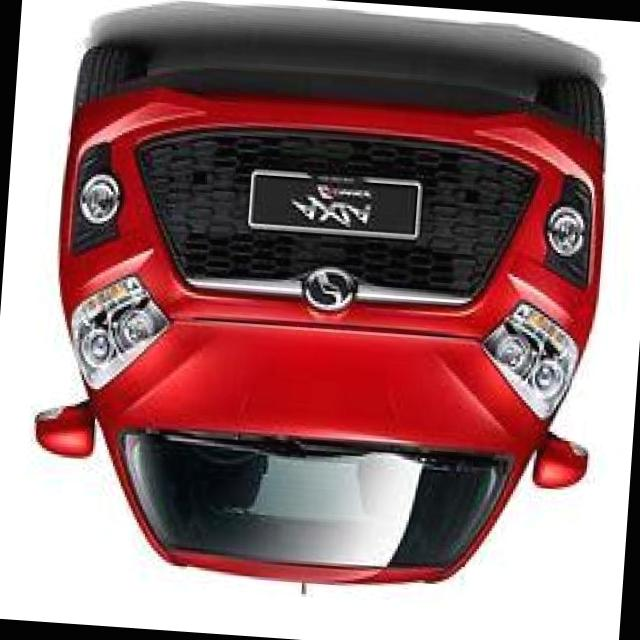PeroduaAxia: (22, 35, 618, 614)
